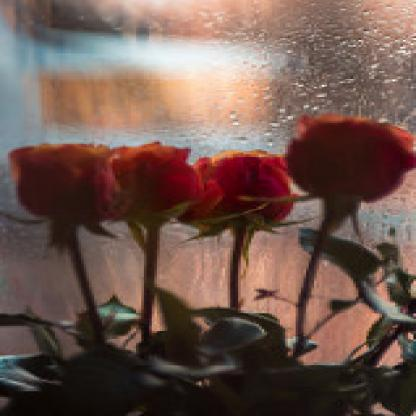ROSE-MAWAR: (4, 105, 415, 235)
